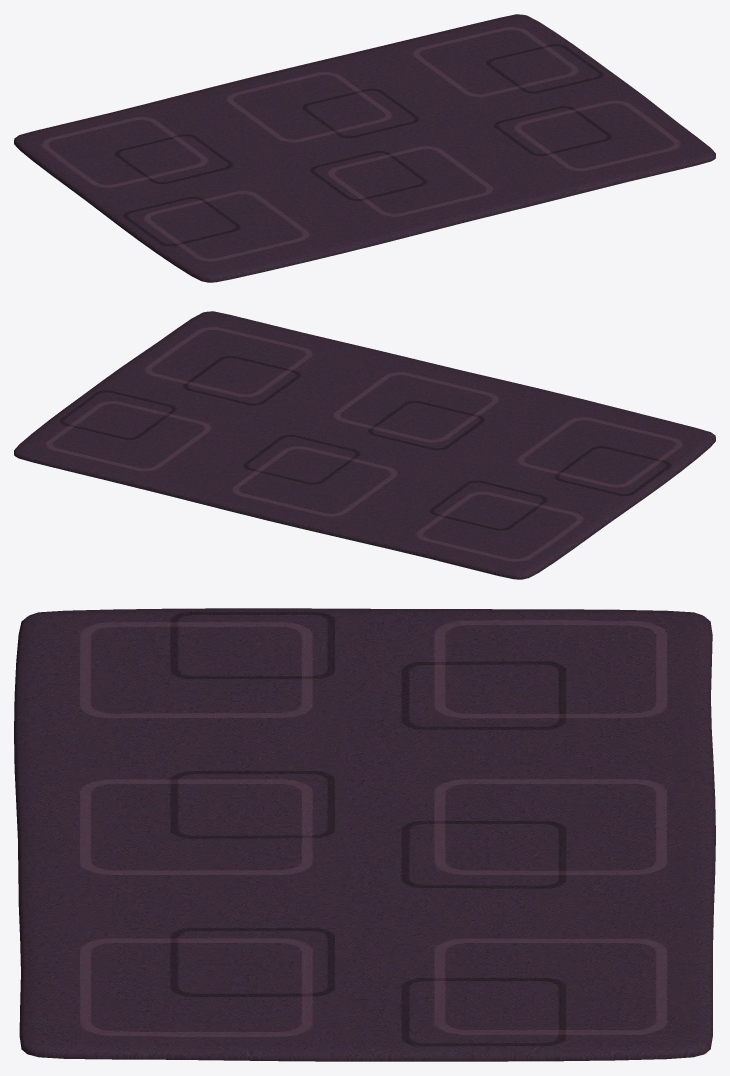
File: rug.glb
3 views of the same model, one above another, from view 1: azimuth 30°, elevation 25°; view 2: azimuth 150°, elevation 25°; view 3: azimuth 270°, elevation 25° (orthographic). The views are drawn at different scales.
Visible parts, largest first — view 1: Carpet; view 2: Carpet; view 3: Carpet.
Part boxes in pixels (bbox=[...]): Carpet: bbox=[14, 14, 715, 282]; Carpet: bbox=[14, 311, 715, 579]; Carpet: bbox=[14, 608, 715, 1061].
Size of the model in its own units: 1.68 by 0.0142 by 1.11.
1 material, 1 textured.
